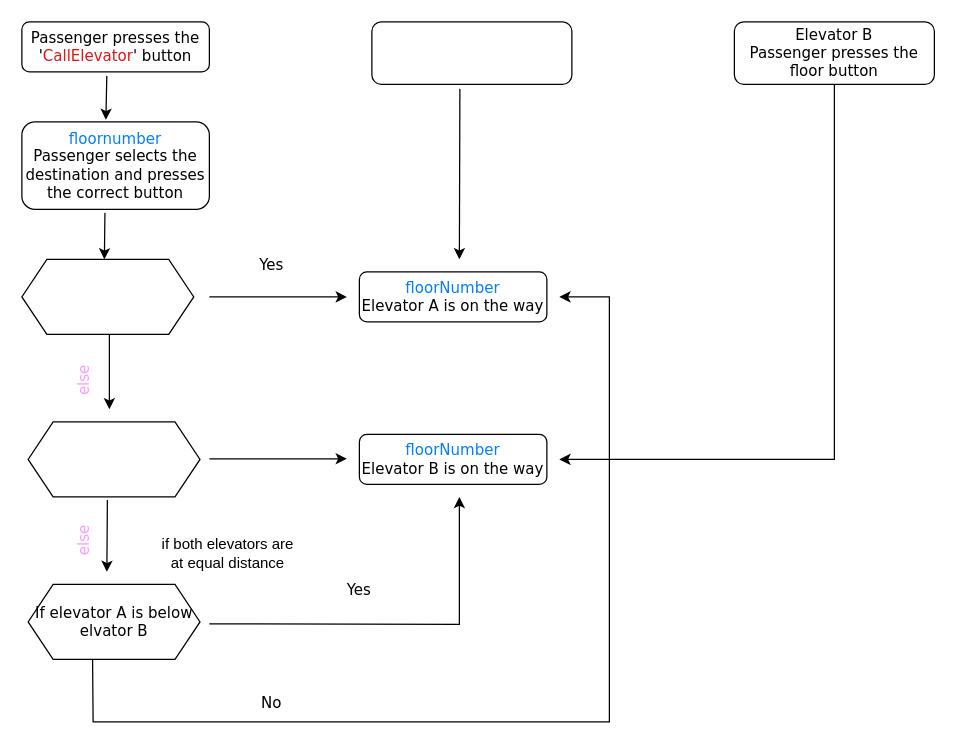
This 956x754 diagram has some shape labels left out. Each missing label, with the box of its shape:
Elevator A is closer than elevator B: (21, 258, 194, 334)
Elevator A Passenger presses the floor button: (371, 21, 572, 84)
Elevator B is closer than elevator A: (27, 421, 200, 497)
